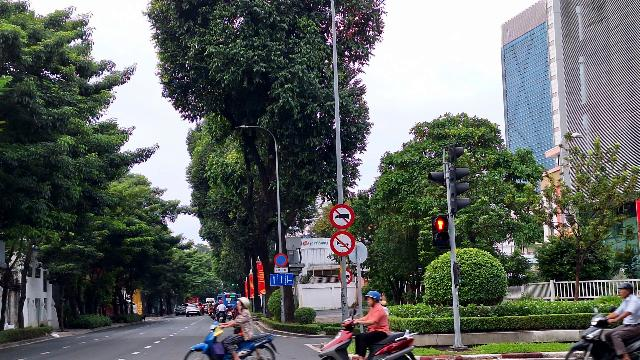cam-bop-coi: (330, 231, 355, 256)
cam-do-xe: (274, 253, 288, 267)
